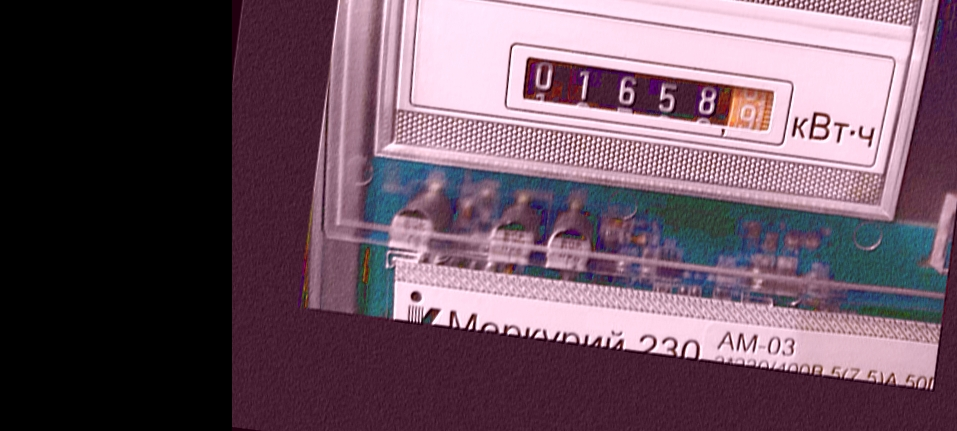0: (534, 59, 557, 92)
1: (576, 68, 597, 102)
5: (657, 81, 682, 114)
6: (617, 72, 641, 108)
8: (698, 83, 722, 117)
9: (736, 102, 761, 132)
screen: (494, 33, 802, 154)
